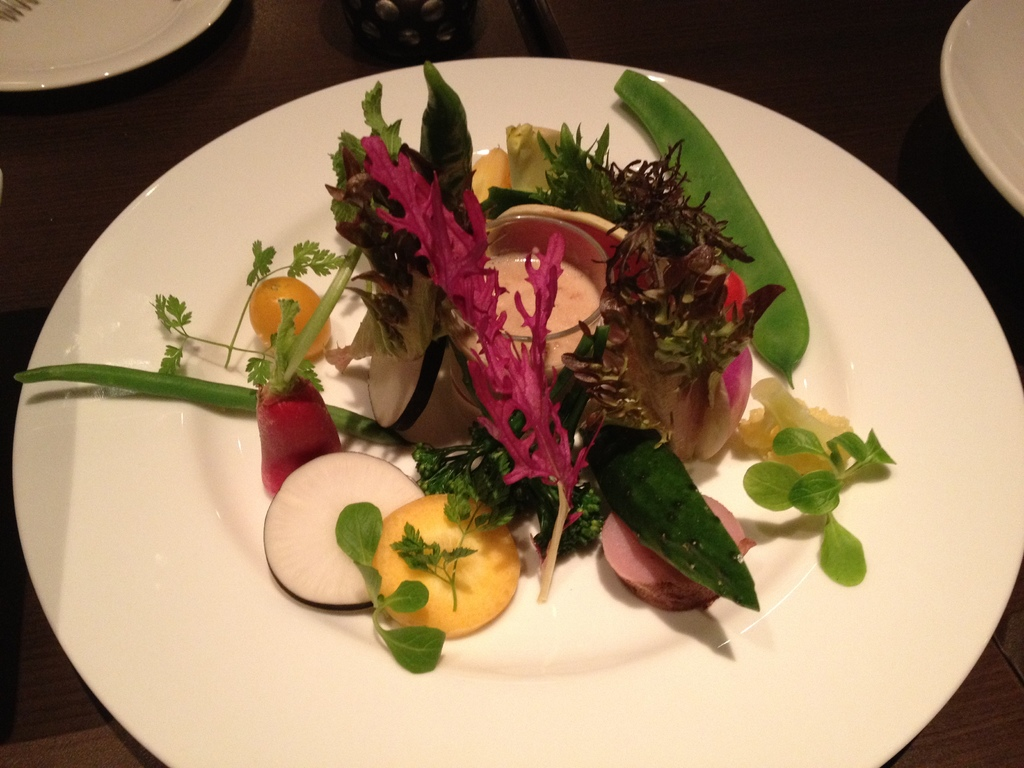plate: (0, 0, 236, 91), (941, 0, 1023, 218)
